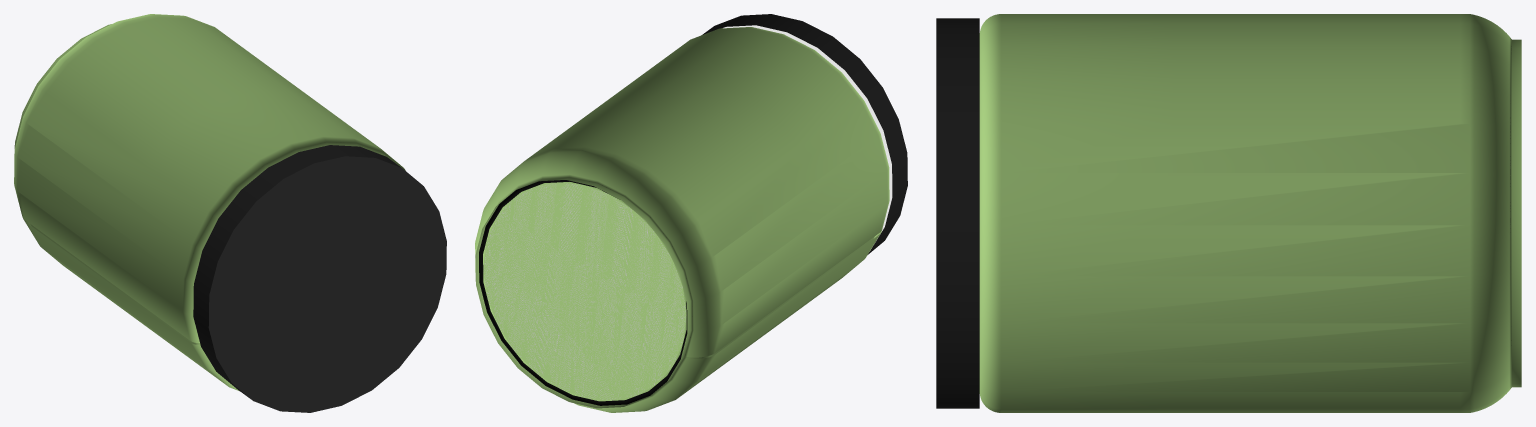
Rendered from model_align.obj.
3 views of the same model, side by side, from view 1: azimuth 30°, elevation 25°; view 2: azimuth 150°, elevation 25°; view 3: azimuth 270°, elevation 25° (orthographic). The views are drawn at different scales.
Visible parts, largest first — view 1: mesh1_mesh1-geometry, mesh2_mesh2-geometry; view 2: mesh1_mesh1-geometry, mesh2_mesh2-geometry; view 3: mesh1_mesh1-geometry, mesh2_mesh2-geometry.
Boxes of the visible parts, bbox=[...] form: mesh1_mesh1-geometry: bbox=[14, 14, 405, 390]; mesh2_mesh2-geometry: bbox=[193, 145, 446, 412]; mesh1_mesh1-geometry: bbox=[475, 27, 889, 412]; mesh2_mesh2-geometry: bbox=[702, 14, 907, 254]; mesh1_mesh1-geometry: bbox=[979, 14, 1521, 412]; mesh2_mesh2-geometry: bbox=[936, 18, 979, 408].
Bounding box in the file's own units: 0.0817 × 0.0817 × 0.1205.
